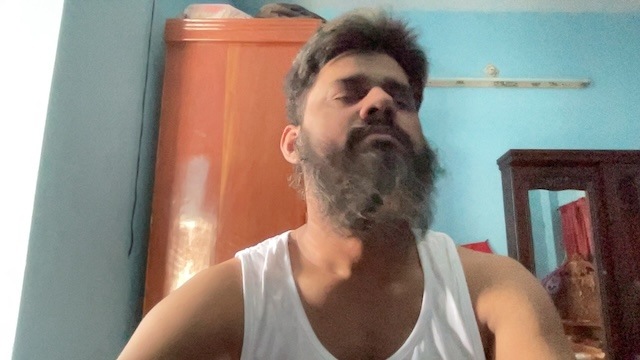Goggles: (290, 45, 439, 215)
